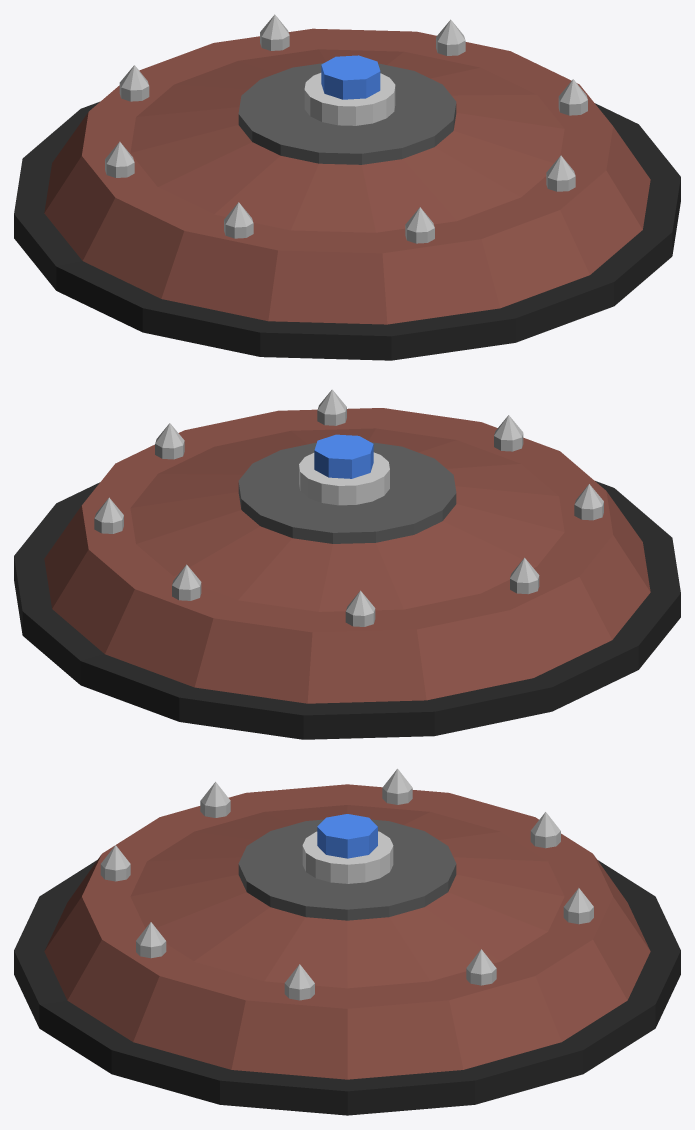
File: Shield_5_d_r.fbx
The picture shows the model from 3 angles, top to bottom: view 1: azimuth 30°, elevation 25°; view 2: azimuth 150°, elevation 25°; view 3: azimuth 270°, elevation 25°; orthographic projection.
Parts seen in each view (by area): view 1: Circle.219, Circle.218, Circle.217, Circle.216, Circle.215, Circle.213, Circle.209, Circle.206, Circle.210, Circle.207, Circle.214, Circle.212 (+1 smaller); view 2: Circle.219, Circle.218, Circle.217, Circle.216, Circle.215, Circle.213, Circle.207, Circle.209, Circle.212, Circle.211, Circle.206, Circle.214 (+1 smaller); view 3: Circle.219, Circle.218, Circle.217, Circle.216, Circle.215, Circle.211, Circle.213, Circle.214, Circle.212, Circle.209, Circle.207, Circle.210 (+1 smaller).
Boxes of the visible parts, box(x1,y1,x2,y2) form: Circle.219: box(44, 28, 650, 324); Circle.218: box(14, 101, 680, 360); Circle.217: box(238, 63, 456, 164); Circle.216: box(304, 73, 395, 125); Circle.215: box(321, 55, 380, 99); Circle.213: box(119, 65, 149, 101); Circle.209: box(546, 155, 575, 191); Circle.206: box(224, 202, 253, 238); Circle.210: box(558, 79, 587, 115); Circle.207: box(405, 207, 434, 243); Circle.214: box(105, 141, 134, 177); Circle.212: box(260, 14, 289, 50); Circle.219: box(44, 408, 650, 703); Circle.218: box(14, 481, 680, 739); Circle.217: box(238, 442, 456, 543); Circle.216: box(299, 452, 389, 505); Circle.215: box(314, 434, 373, 478); Circle.213: box(345, 590, 375, 626); Circle.207: box(494, 415, 523, 451); Circle.209: box(317, 389, 346, 425); Circle.212: box(172, 564, 201, 600); Circle.211: box(94, 497, 123, 533); Circle.206: box(574, 484, 603, 520); Circle.214: box(510, 557, 539, 594); Circle.219: box(44, 784, 650, 1079); Circle.218: box(14, 860, 680, 1115); Circle.217: box(238, 819, 456, 920); Circle.216: box(302, 831, 393, 883); Circle.215: box(317, 814, 377, 858); Circle.211: box(466, 949, 496, 985); Circle.213: box(530, 812, 560, 848); Circle.214: box(382, 768, 412, 804); Circle.212: box(563, 888, 593, 924); Circle.209: box(136, 922, 166, 958); Circle.207: box(100, 845, 130, 881); Circle.210: box(284, 964, 314, 1000).
Size of the model in its own units: 55 by 19.57 by 55.
